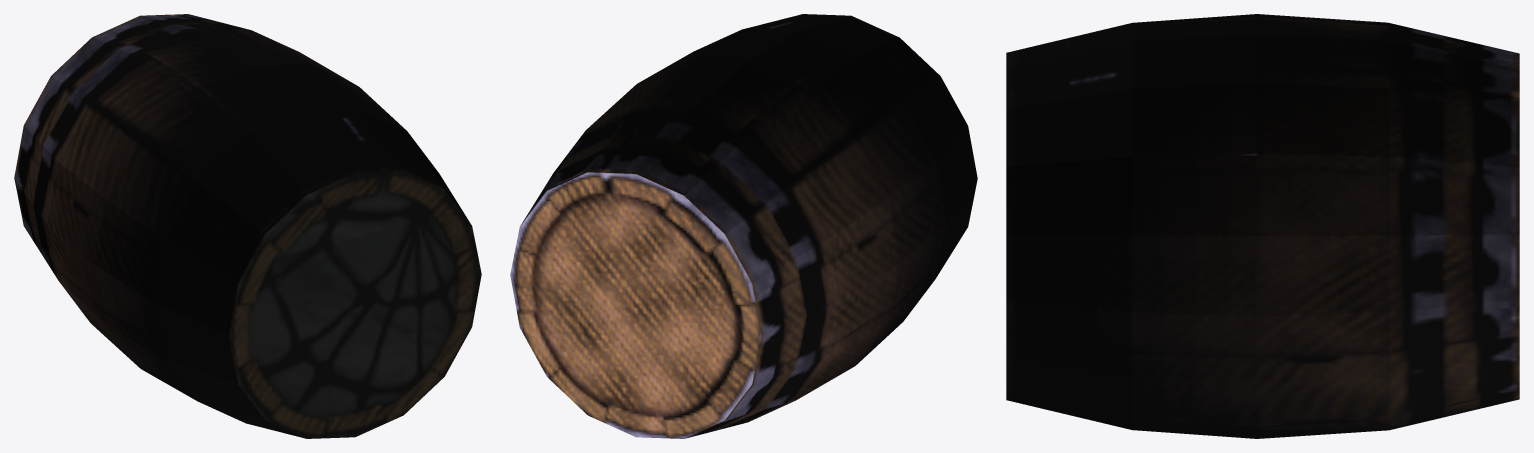
The model's file is ex_Barrel0.obj.
The picture shows the model from 3 angles, left to right: view 1: azimuth 30°, elevation 25°; view 2: azimuth 150°, elevation 25°; view 3: azimuth 270°, elevation 25°; orthographic projection. The views are drawn at different scales.
Parts seen in each view (by area): view 1: BarrelLoRes_Cylinder.; view 2: BarrelLoRes_Cylinder.; view 3: BarrelLoRes_Cylinder..
Part boxes in pixels (box(x1,y1,x2,y2)): BarrelLoRes_Cylinder.: box(14, 14, 481, 438); BarrelLoRes_Cylinder.: box(510, 14, 977, 438); BarrelLoRes_Cylinder.: box(1006, 14, 1519, 438).
Size of the model in its own units: 68.11 by 68.11 by 82.19.
1 material, 1 textured.
